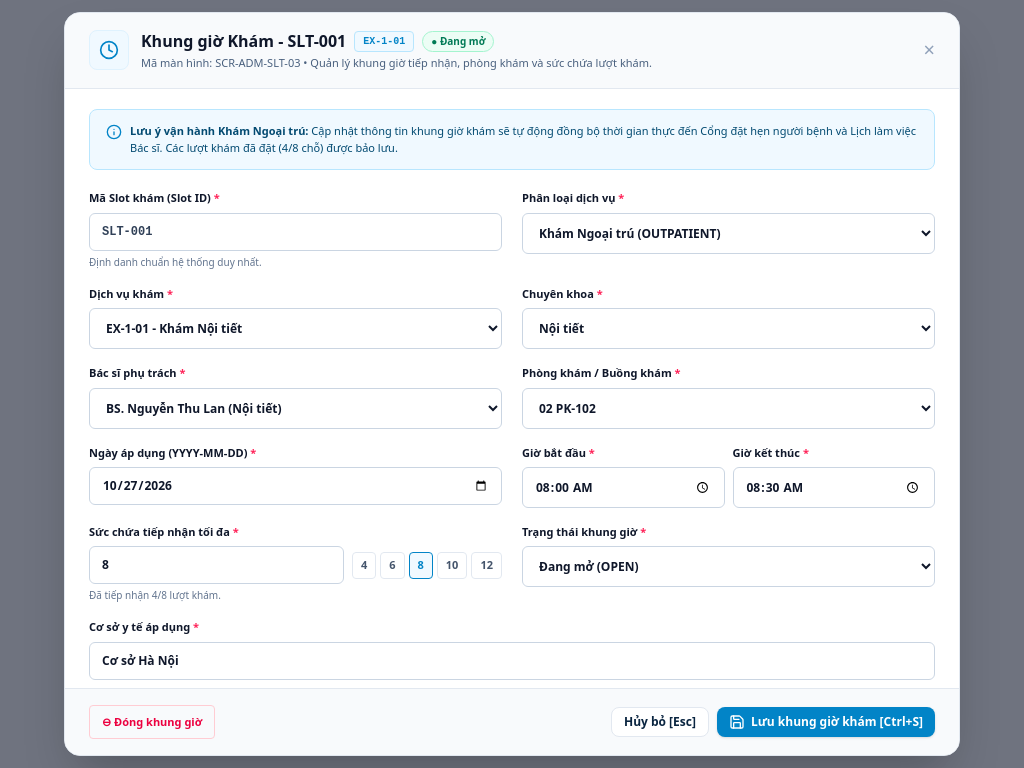
Scenario: SlotEditModal (SCR-ADM-SLT-03) › allows toggling slot status from open to closed via footer button
This screenshot has width=1024, height=768.
Click the button "⊖ Đóng khung giờ".
click(152, 722)  # box [89,704,215,739]
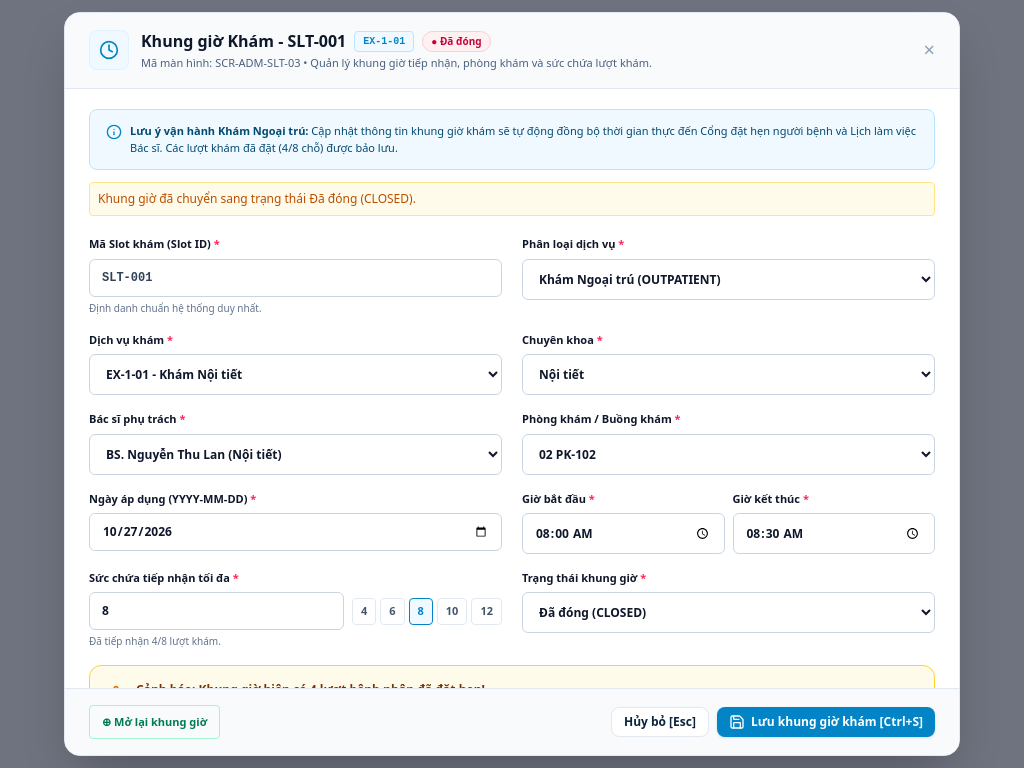
Check: the text "Khung giờ đã chuyển sang trạng thái Đã đóng (CLOSED)." is shown, box [89,182,935,216]
Check: the button "⊕ Mở lại khung giờ" is shown, box [89,704,220,739]
